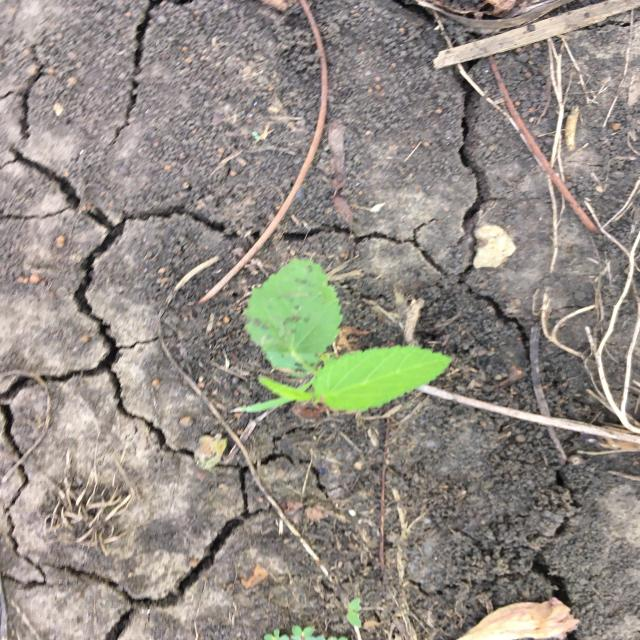PricklySida: (229, 257, 455, 416)
